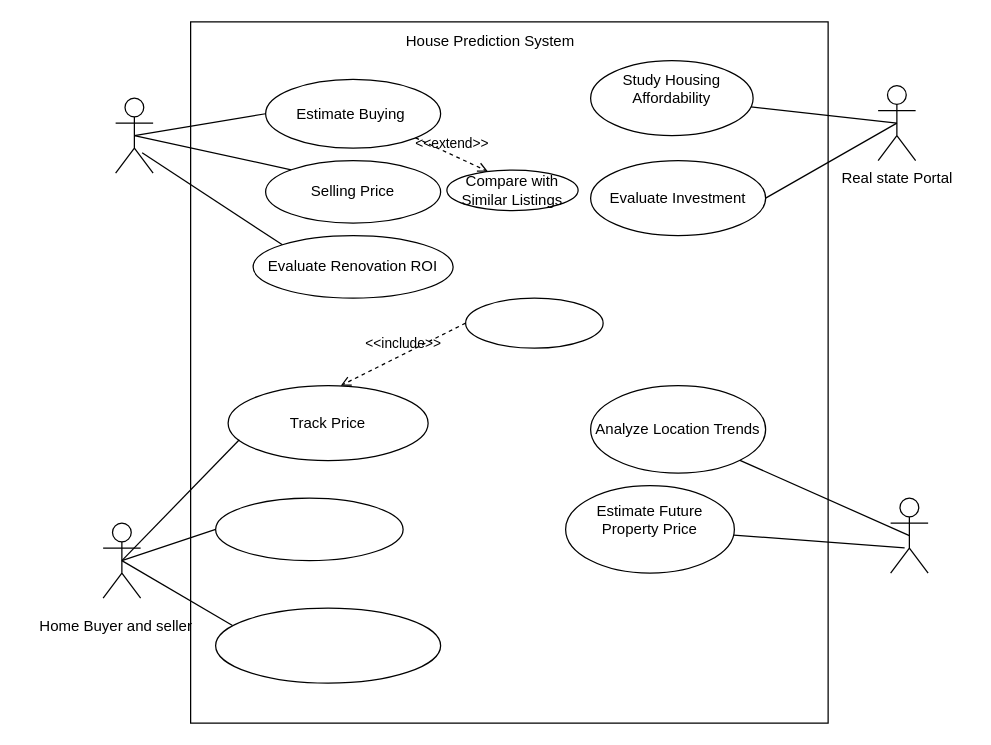
This 991x745 diagram has some shape labels left out. Each missing label, with the box of its shape:
Check Future Value Estimate: (214, 497, 403, 561)
Collect details: (464, 297, 603, 348)
Development Firm: (889, 497, 928, 573)
Plan Best Time to Buy or Sell: (214, 607, 441, 683)
Real state: (114, 97, 153, 173)
